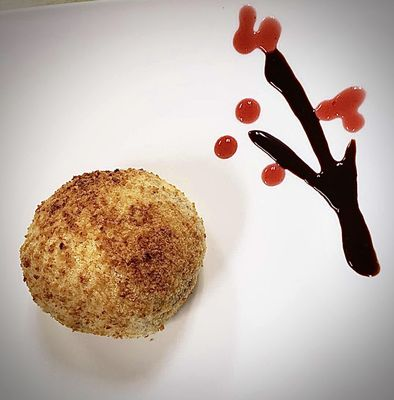sandwich: (247, 130, 382, 278)
